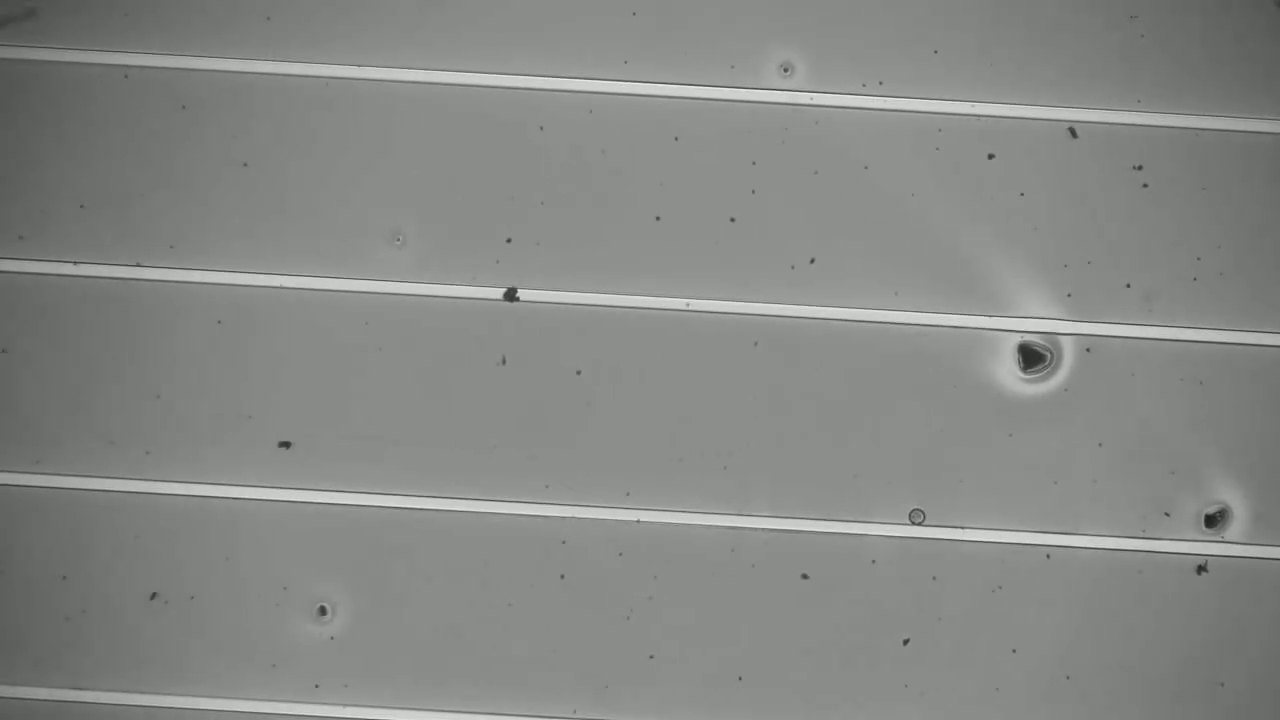stains_enbedded: (494, 281, 525, 312)
